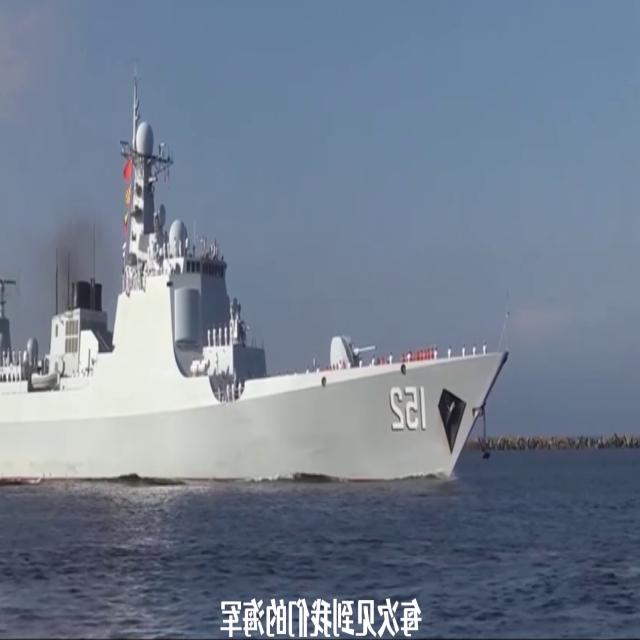navalvessels: (0, 114, 506, 490)
